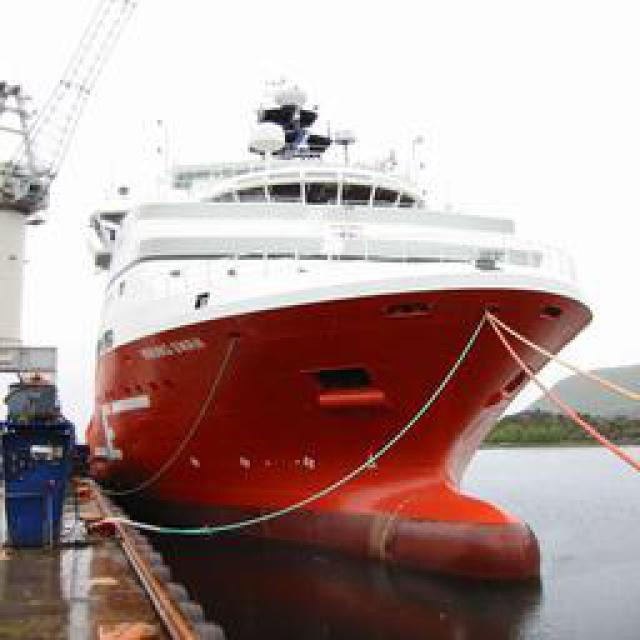Ship: (83, 73, 601, 585)
